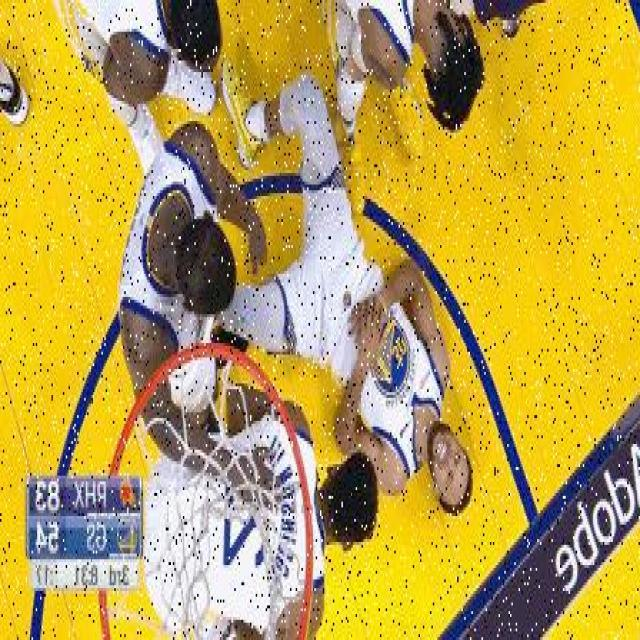fall: (248, 115, 476, 519)
